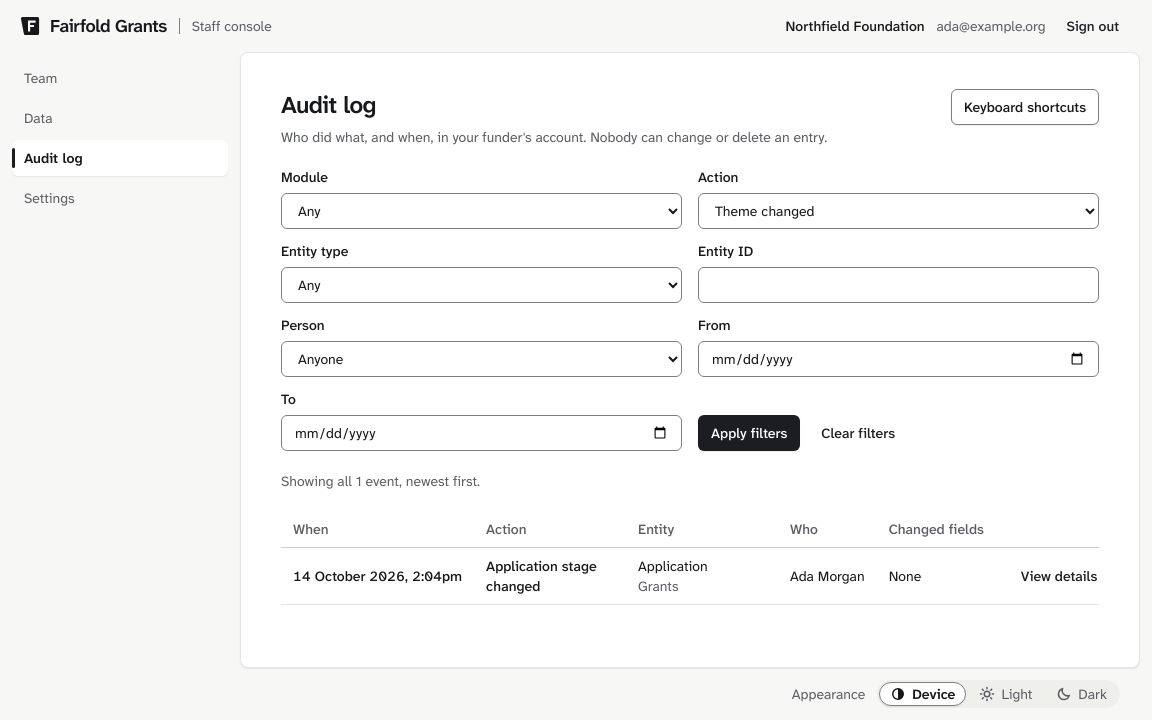
the audit log › narrows the actions to the module, and clears them when the module changes
Expected: the table is shown, [281,511,1099,605]
Expected: the dropdown labelled "Action" shows "Theme changed", [698,193,1099,229]
Select "Grants" in the dropdown labelled "Module". click: [482, 211]
box: [281,193,682,229]
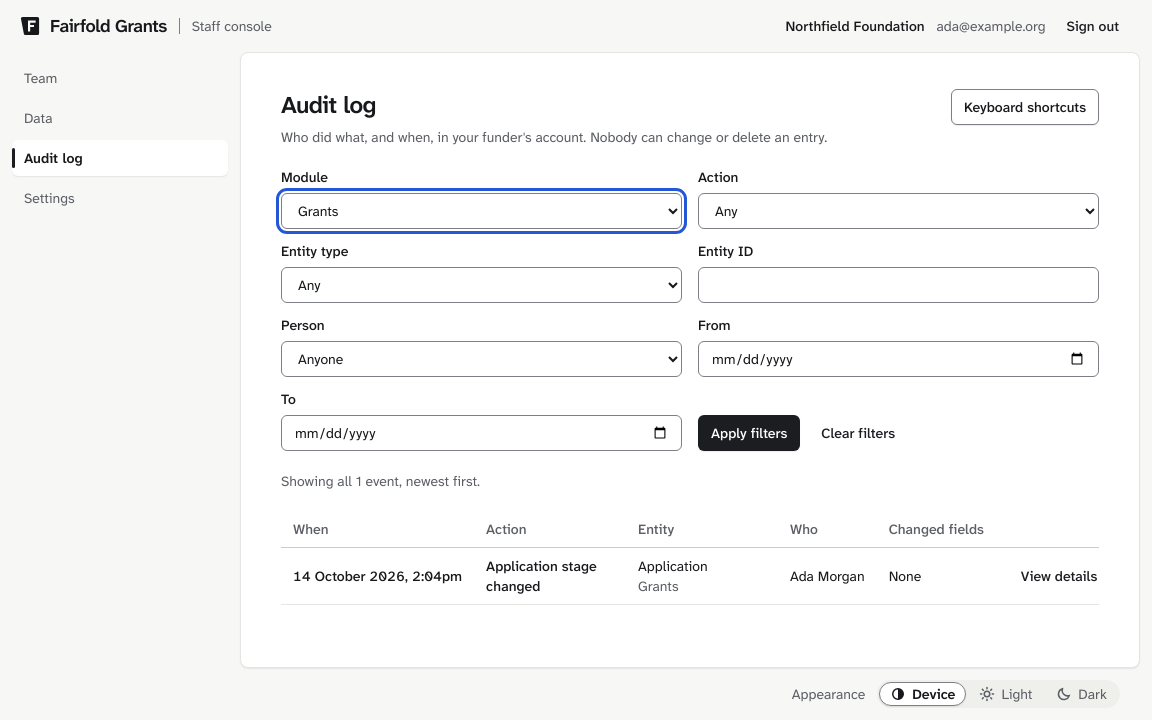
Expected: the option does not show "Theme changed"
Now the dropdown labelled "Action" shows "Any", box [698,193,1099,229]
